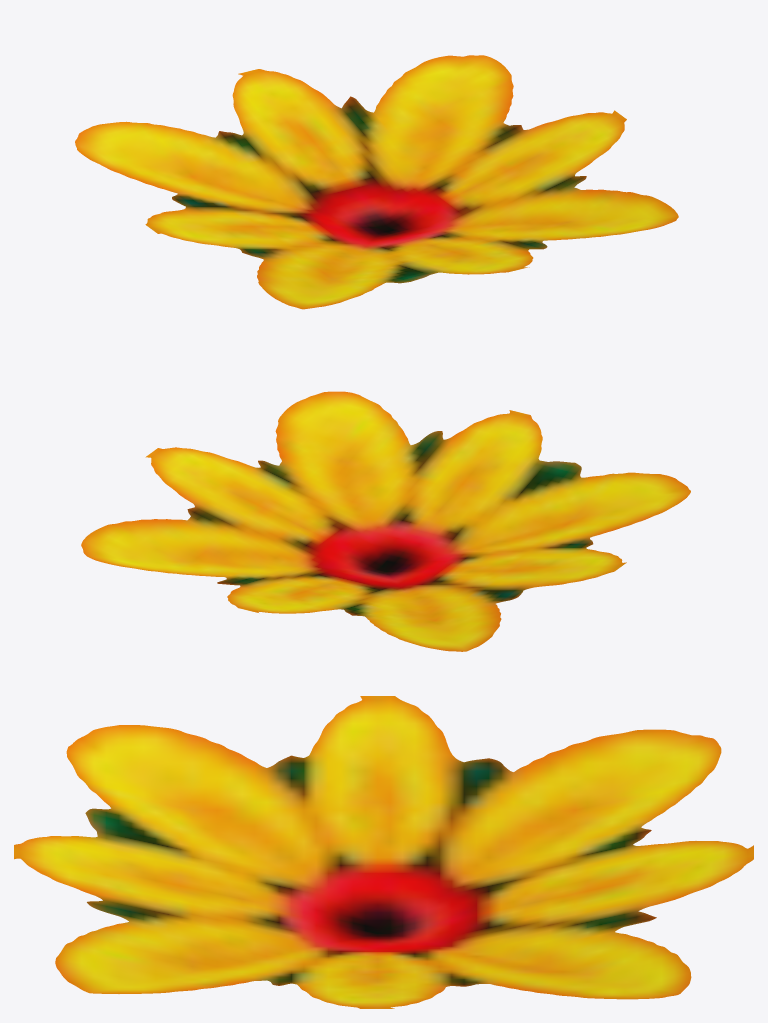
File: squirting-flower.glb
3 views of the same model, one above another, from view 1: azimuth 30°, elevation 25°; view 2: azimuth 150°, elevation 25°; view 3: azimuth 270°, elevation 25° (orthographic). The views are drawn at different scales.
Visible parts, largest first — view 1: joint_attachSpray; view 2: joint_attachSpray; view 3: joint_attachSpray.
Part boxes in pixels (x1,y1,x2,y2): joint_attachSpray: (75,55,678,309); joint_attachSpray: (81,391,690,651); joint_attachSpray: (14,696,753,1008).
Bounding box in the file's own units: 0.83 × 0.0989 × 0.83.
Materials: 1 (1 with a texture image).
